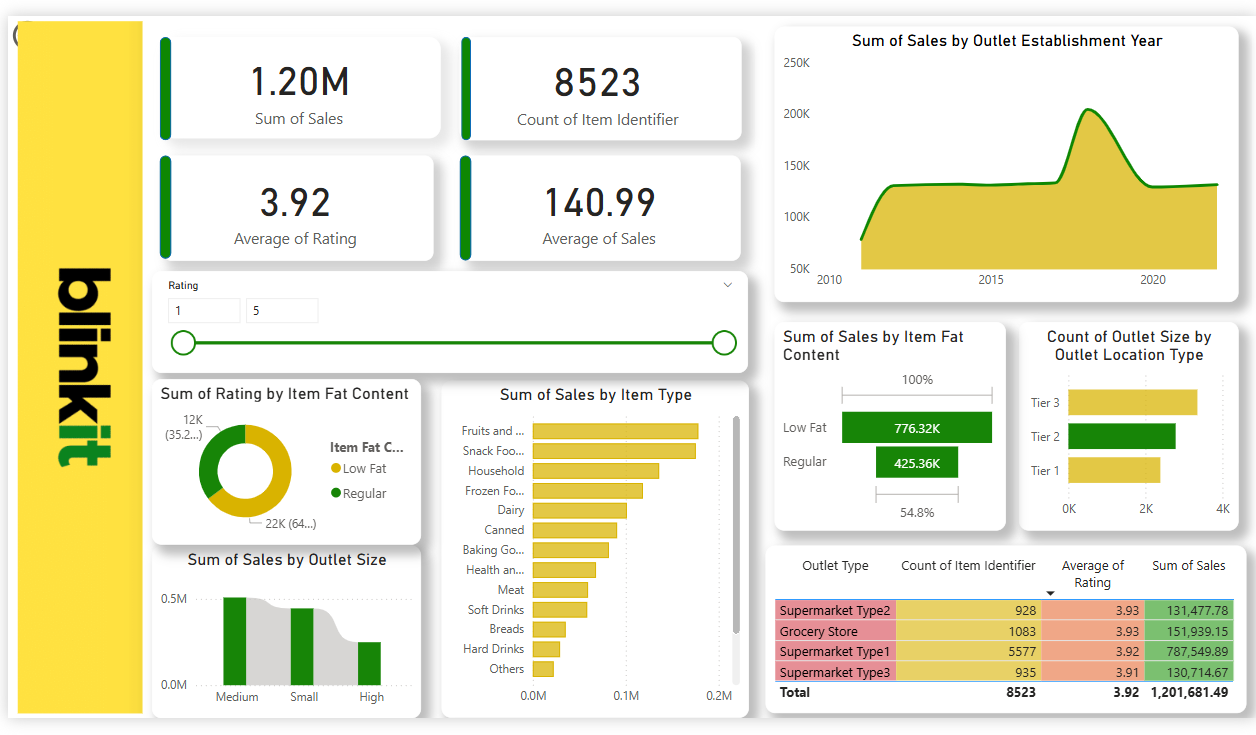

This screenshot's page, from the dashboard's own definition file:
{"tool":"powerbi","page":{"name":"Page 1","canvas":[1280,720],"ordinal":0},"visuals":[{"type":"card","fields":{"Values":["CountNonNull(Table1.Item Identifier)"]},"box":[463,20.8,289.1,105.8],"z":0},{"type":"shape","box":[457.3,20.8,18.9,105.8],"z":1000},{"type":"card","fields":{"Values":["Sum(Table1.Sales)"]},"box":[158.7,20.8,285.4,103.9],"z":2000},{"type":"shape","box":[147.4,20.8,20.8,105.8],"z":3000},{"type":"card","fields":{"Values":["Avg(Table1.Rating)"]},"box":[158.7,143.6,277.8,107.7],"z":4000},{"type":"card","fields":{"Values":["Avg(Table1.Sales)"]},"box":[466.8,143.6,285.4,107.7],"z":5000},{"type":"shape","box":[147.4,143.6,20.8,105.8],"z":6000},{"type":"shape","box":[455.4,143.6,20.8,107.7],"z":7000},{"type":"lineChart","fields":{"Category":["Table1.Outlet Establishment Year"],"Y":["Sum(Table1.Sales)"]},"box":[786.2,11.2,476.2,282.5],"z":8000},{"type":"ribbonChart","fields":{"Category":["Table1.Outlet Size"],"Y":["Sum(Table1.Sales)"]},"box":[147.4,542.4,275.9,177.6],"z":9000},{"type":"barChart","fields":{"Category":["Table1.Item Type"],"Y":["Sum(Table1.Sales)"]},"box":[444.1,374.2,315.6,345.8],"z":10000},{"type":"slicer","fields":{"Values":["Table1.Rating"]},"box":[147.4,268.3,612.3,90.7],"z":11000},{"type":"donutChart","fields":{"Category":["Table1.Item Fat Content"],"Y":["Sum(Table1.Rating)"]},"box":[147.4,372.3,275.9,170.1],"z":12000},{"type":"clusteredBarChart","fields":{"Category":["Table1.Outlet Location Type"],"Y":["CountNonNull(Table1.Outlet Size)"]},"box":[1037.5,313.8,225,213.8],"z":13000},{"type":"funnel","fields":{"Category":["Table1.Item Fat Content"],"Y":["Sum(Table1.Sales)"]},"box":[786.2,313.8,237.5,213.8],"z":14000},{"type":"tableEx","fields":{"Values":["Table1.Outlet Type","Table1.Item Identifier","Avg(Table1.Rating)","Sum(Table1.Sales)"]},"box":[776.7,542.4,493.2,172],"z":15000},{"type":"actionButton","box":[0,0,100,40],"z":16000},{"type":"image","box":[0,0,147.4,720],"z":17000}]}

Visuals, with their boxes on the page's 1280x720 design canvas (x1, y1, x2, y2). These are canvas units, not pixel positions in the 1256x735 screenshot, which may show the page scaled, cropped or inside an application window:
card - CountNonNull(Table1.Item Identifier): detection(463, 21, 752, 127)
shape: detection(457, 21, 476, 127)
card - Sum(Table1.Sales): detection(159, 21, 444, 125)
shape: detection(147, 21, 168, 127)
card - Avg(Table1.Rating): detection(159, 144, 436, 251)
card - Avg(Table1.Sales): detection(467, 144, 752, 251)
shape: detection(147, 144, 168, 249)
shape: detection(455, 144, 476, 251)
lineChart - Table1.Outlet Establishment Year x Sum(Table1.Sales): detection(786, 11, 1262, 294)
ribbonChart - Table1.Outlet Size x Sum(Table1.Sales): detection(147, 542, 423, 720)
barChart - Table1.Item Type x Sum(Table1.Sales): detection(444, 374, 760, 720)
slicer - Table1.Rating: detection(147, 268, 760, 359)
donutChart - Table1.Item Fat Content x Sum(Table1.Rating): detection(147, 372, 423, 542)
clusteredBarChart - Table1.Outlet Location Type x CountNonNull(Table1.Outlet Size): detection(1038, 314, 1262, 528)
funnel - Table1.Item Fat Content x Sum(Table1.Sales): detection(786, 314, 1024, 528)
tableEx - Table1.Outlet Type x Table1.Item Identifier: detection(777, 542, 1270, 714)
actionButton: detection(0, 0, 100, 40)
image: detection(0, 0, 147, 720)
